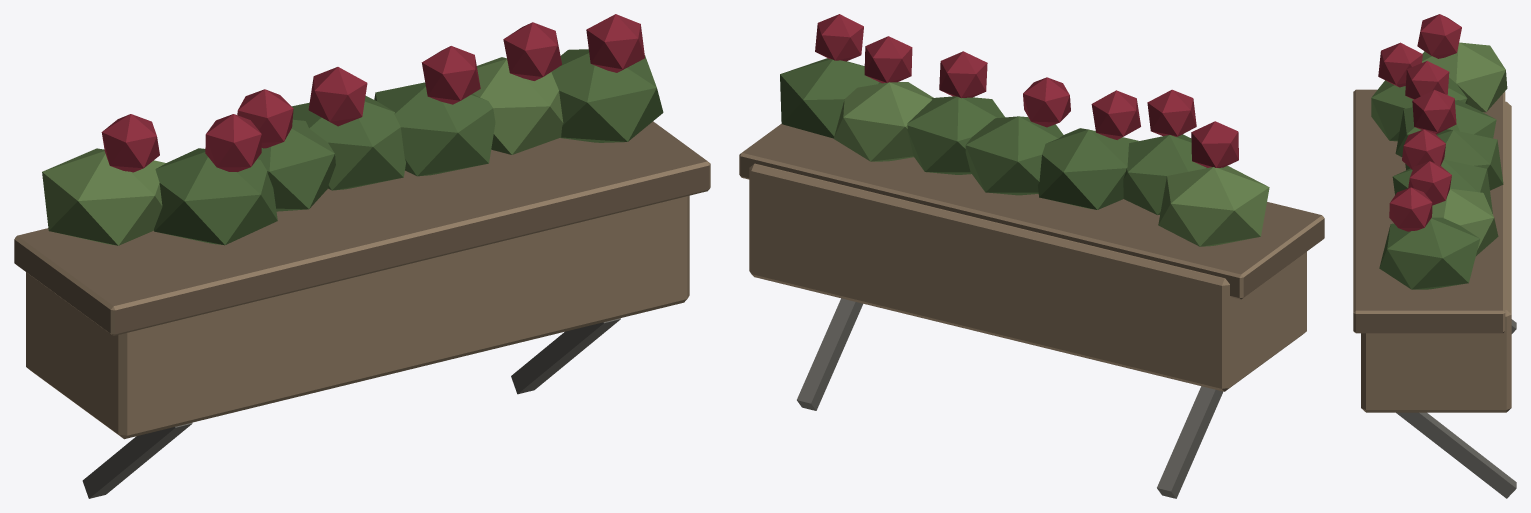
File: flower_box.glb
3 renders of one model, left to right at view 1: azimuth 30°, elevation 25°; view 2: azimuth 150°, elevation 25°; view 3: azimuth 270°, elevation 25°, orthographic. The views are drawn at different scales.
Visible parts, largest first — view 1: Flower_Box; view 2: Flower_Box; view 3: Flower_Box.
Boxes of the visible parts, x1,y1,x2,y2 form: Flower_Box: (14,14,710,498); Flower_Box: (739,14,1324,498); Flower_Box: (1353,14,1516,498).
Bounding box in the file's own units: 0.84 × 0.5591 × 0.2598.
